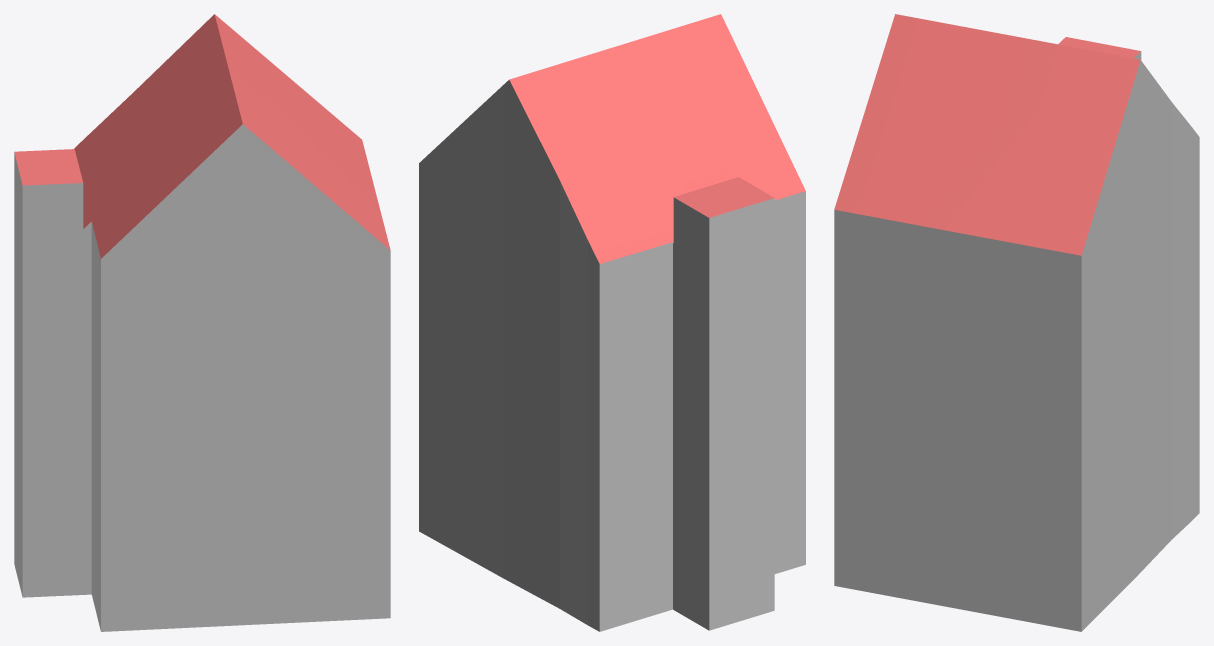
File: DEBY_LOD2_4907179.gltf
The picture shows the model from 3 angles, left to right: view 1: azimuth 30°, elevation 25°; view 2: azimuth 150°, elevation 25°; view 3: azimuth 270°, elevation 25°; orthographic projection. The views are drawn at different scales.
Parts seen in each view (by area): view 1: Z_UP; view 2: Z_UP; view 3: Z_UP.
Part boxes in pixels (left/top/right/bottom): Z_UP: left=14, top=14, right=390, bottom=631; Z_UP: left=419, top=14, right=805, bottom=631; Z_UP: left=834, top=14, right=1199, bottom=631.
Bounding box in the file's own units: 17.68 × 24.38 × 15.75.
